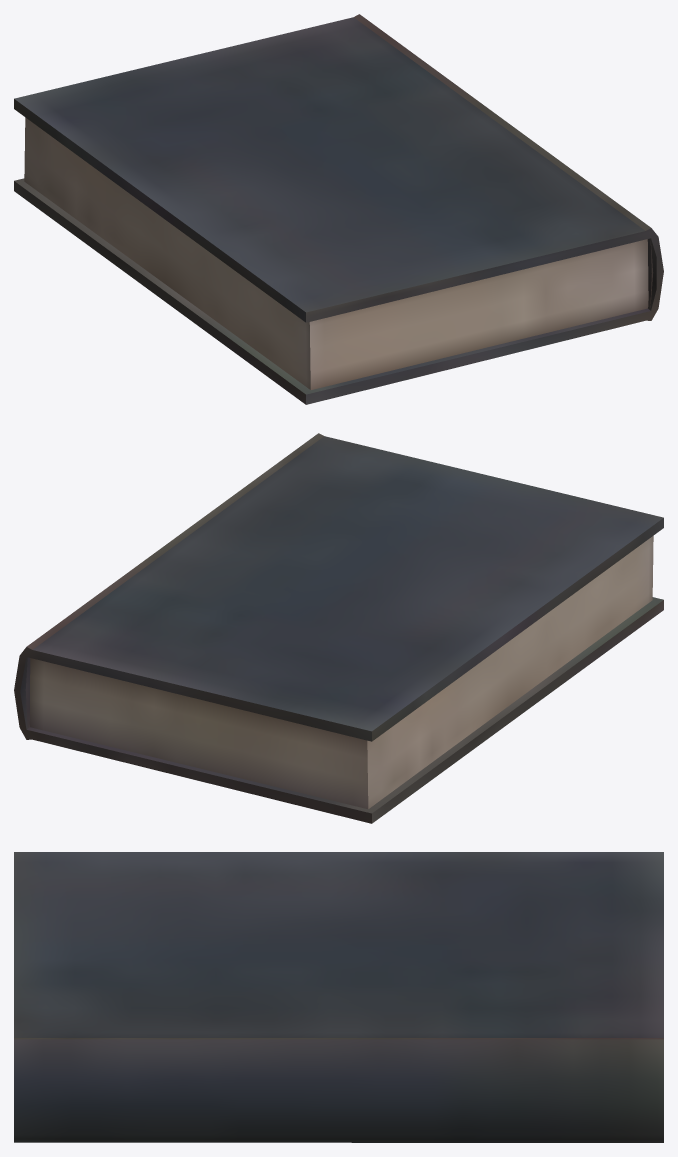
Rendered from book-single-c.lod1.glb.
The picture shows the model from 3 angles, top to bottom: view 1: azimuth 30°, elevation 25°; view 2: azimuth 150°, elevation 25°; view 3: azimuth 270°, elevation 25°; orthographic projection. The views are drawn at different scales.
Visible parts, largest first — view 1: book-single-c; view 2: book-single-c; view 3: book-single-c.
Boxes of the visible parts, bbox=[...] form: book-single-c: bbox=[14, 14, 663, 404]; book-single-c: bbox=[14, 433, 663, 823]; book-single-c: bbox=[14, 852, 663, 1142].
Size of the model in its own units: 0.1662 by 0.0413 by 0.2349.
Materials: 1 (1 with a texture image).
